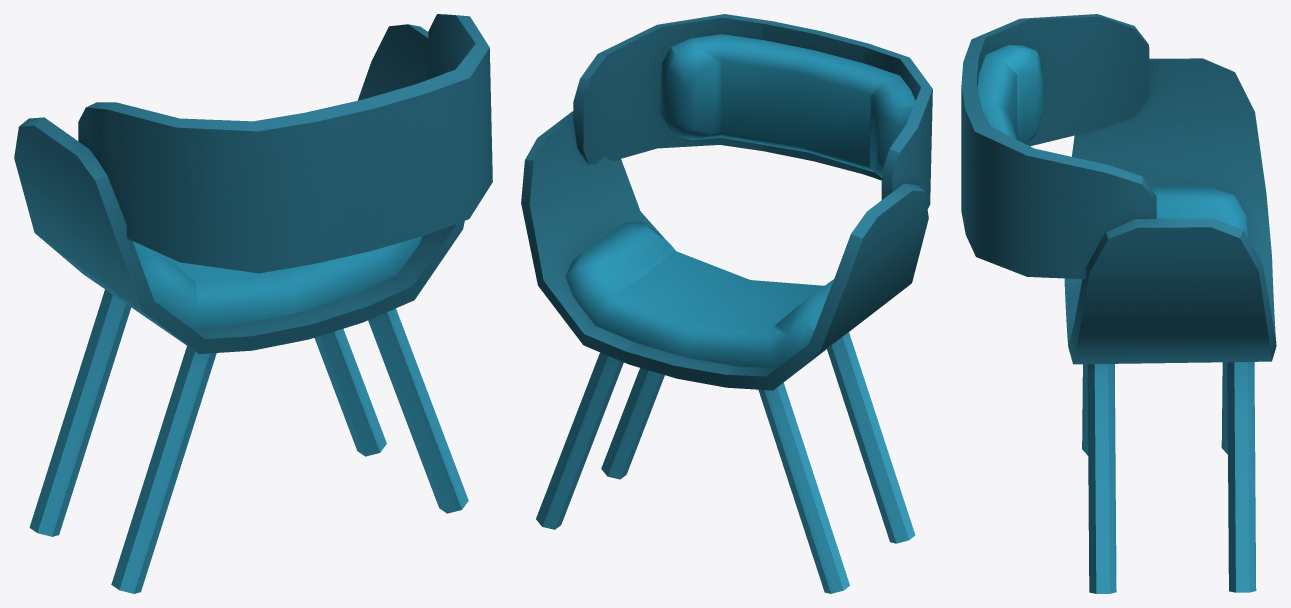
The model's file is chair02 01.fbx.
3 renders of one model, left to right at view 1: azimuth 30°, elevation 25°; view 2: azimuth 150°, elevation 25°; view 3: azimuth 270°, elevation 25°, orthographic. The views are drawn at different scales.
Parts seen in each view (by area): view 1: polySurface170; view 2: polySurface170; view 3: polySurface170.
Part boxes in pixels (left/top/right/bottom): polySurface170: left=14, top=14, right=492, bottom=593; polySurface170: left=521, top=14, right=932, bottom=593; polySurface170: left=961, top=14, right=1276, bottom=593.
Size of the model in its own units: 12.07 by 14.71 by 9.49.
1 material, 1 textured.
